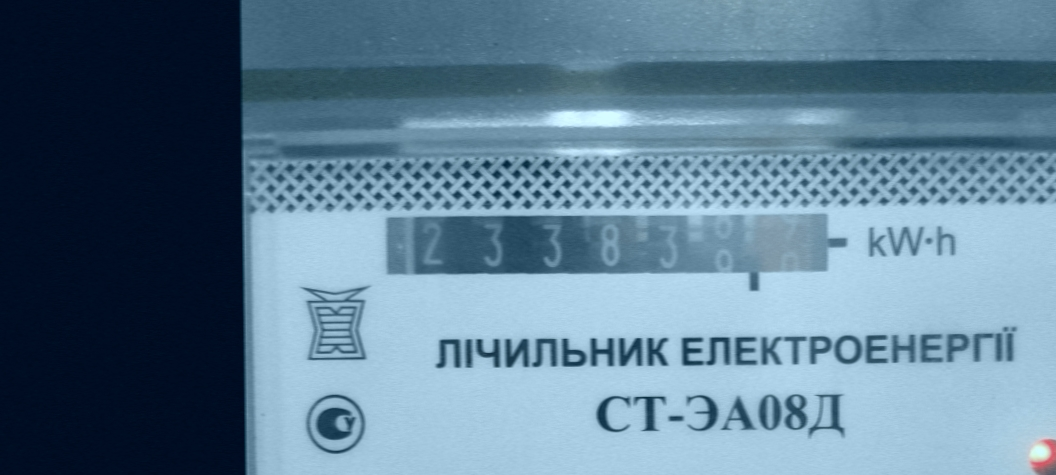0: (777, 247, 803, 273)
2: (418, 218, 446, 267)
3: (479, 219, 506, 269), (540, 220, 565, 271), (655, 221, 681, 269)
8: (597, 221, 622, 267), (710, 214, 738, 240)
9: (710, 244, 737, 274), (777, 212, 801, 241)
screen: (373, 200, 846, 297)
